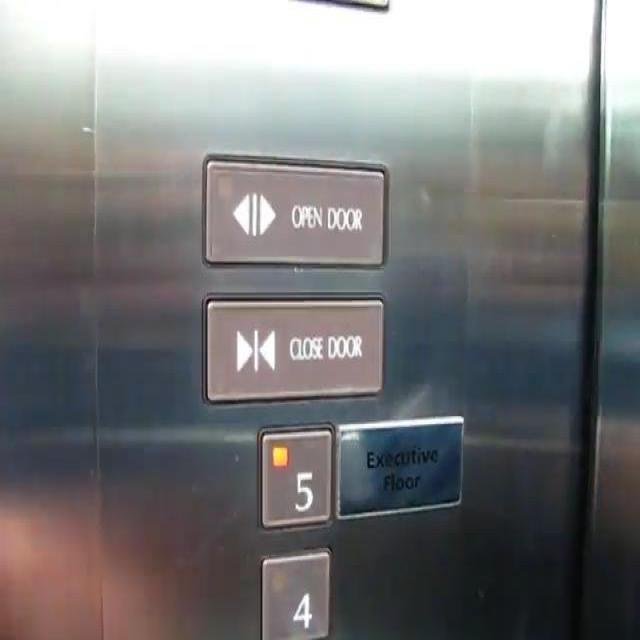4: (255, 540, 336, 639)
5: (252, 417, 337, 535)
close: (198, 288, 387, 408)
open: (197, 146, 392, 274)
